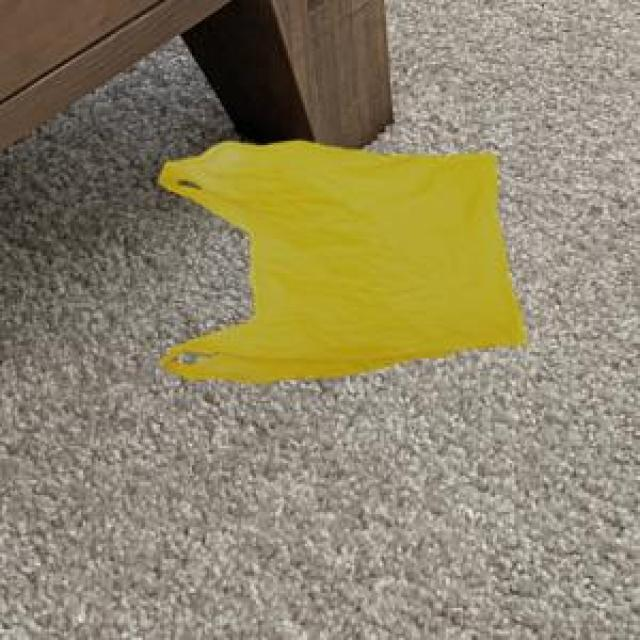waste: (159, 141, 525, 382)
